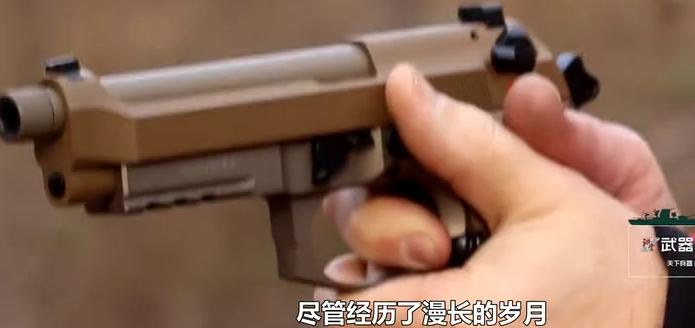gun: (1, 0, 695, 328)
